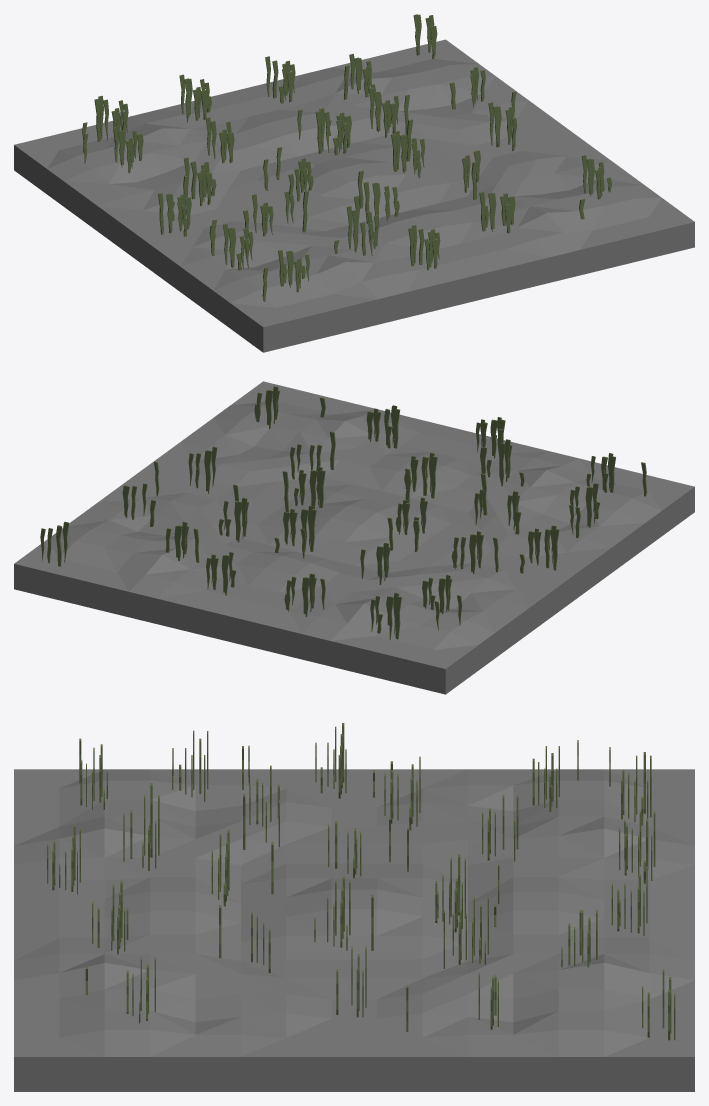
Rendered from RiverBed_Seaweed.dae.
3 views of the same model, one above another, from view 1: azimuth 30°, elevation 25°; view 2: azimuth 150°, elevation 25°; view 3: azimuth 270°, elevation 25° (orthographic). The views are drawn at different scales.
Visible parts, largest first — view 1: RiverBed; view 2: RiverBed; view 3: RiverBed.
Boxes of the visible parts, bbox=[...] form: RiverBed: bbox=[14, 14, 694, 352]; RiverBed: bbox=[14, 381, 694, 694]; RiverBed: bbox=[14, 723, 694, 1091].
Bounding box in the file's own units: 2 × 2 × 0.374.
